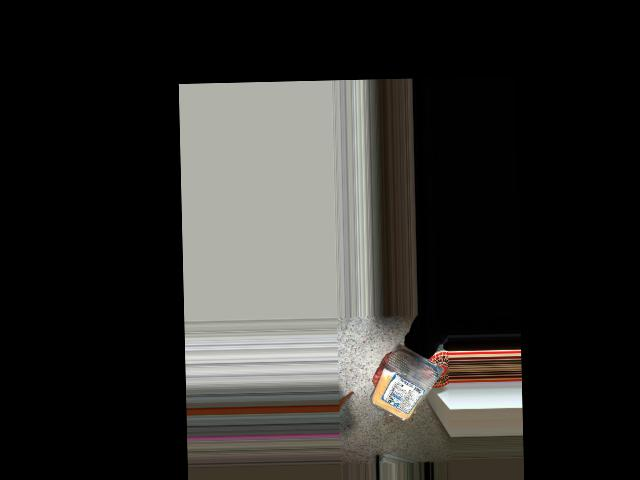cheese: (374, 350, 438, 423)
